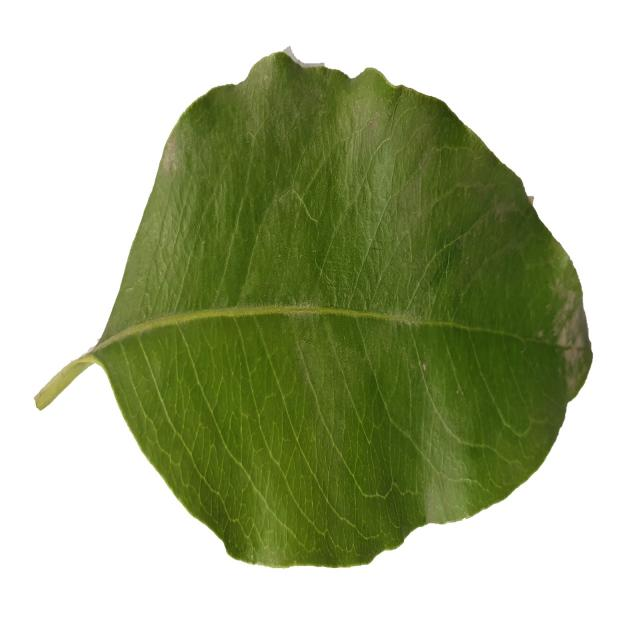Medicinal-Sandalwood: (34, 43, 592, 573)
